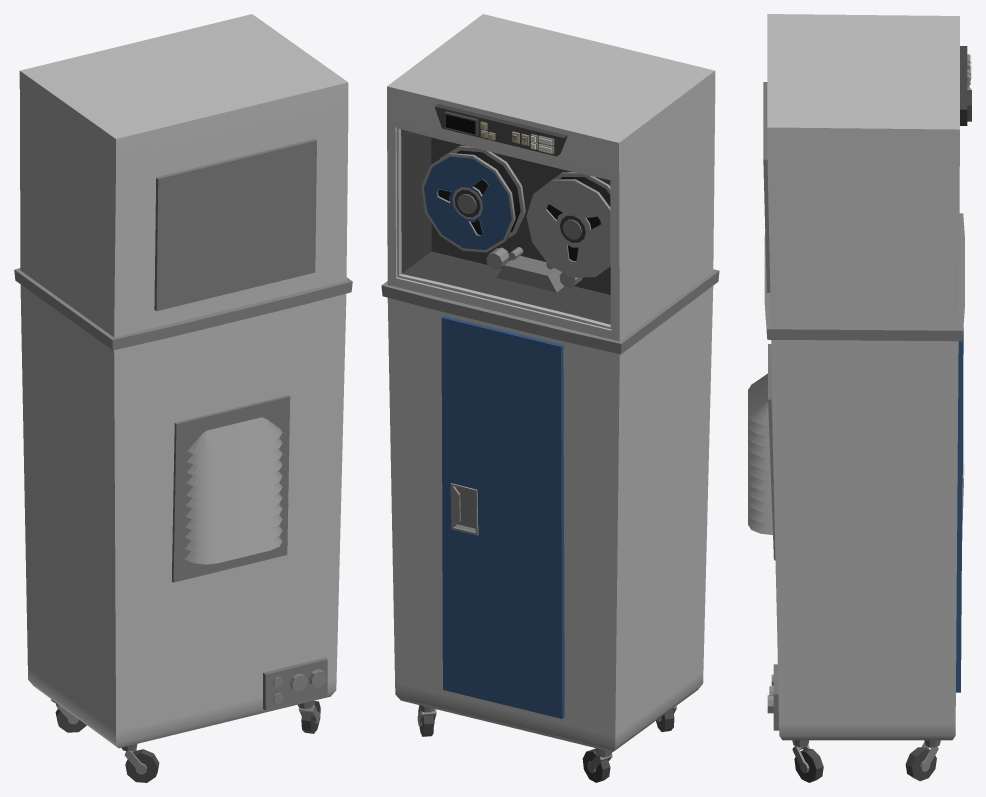
File: blue_disco_machine.glb
3 views of the same model, side by side, from view 1: azimuth 30°, elevation 25°; view 2: azimuth 150°, elevation 25°; view 3: azimuth 270°, elevation 25° (orthographic).
Parts seen in each view (by area): view 1: blue_disco_machine.001; view 2: blue_disco_machine.001; view 3: blue_disco_machine.001.
Boxes of the visible parts, left/top/right/bottom form: blue_disco_machine.001: left=14, top=14, right=352, bottom=782; blue_disco_machine.001: left=381, top=14, right=719, bottom=782; blue_disco_machine.001: left=748, top=14, right=971, bottom=782.
Bounding box in the file's own units: 0.8364 × 2.19 × 0.674.
